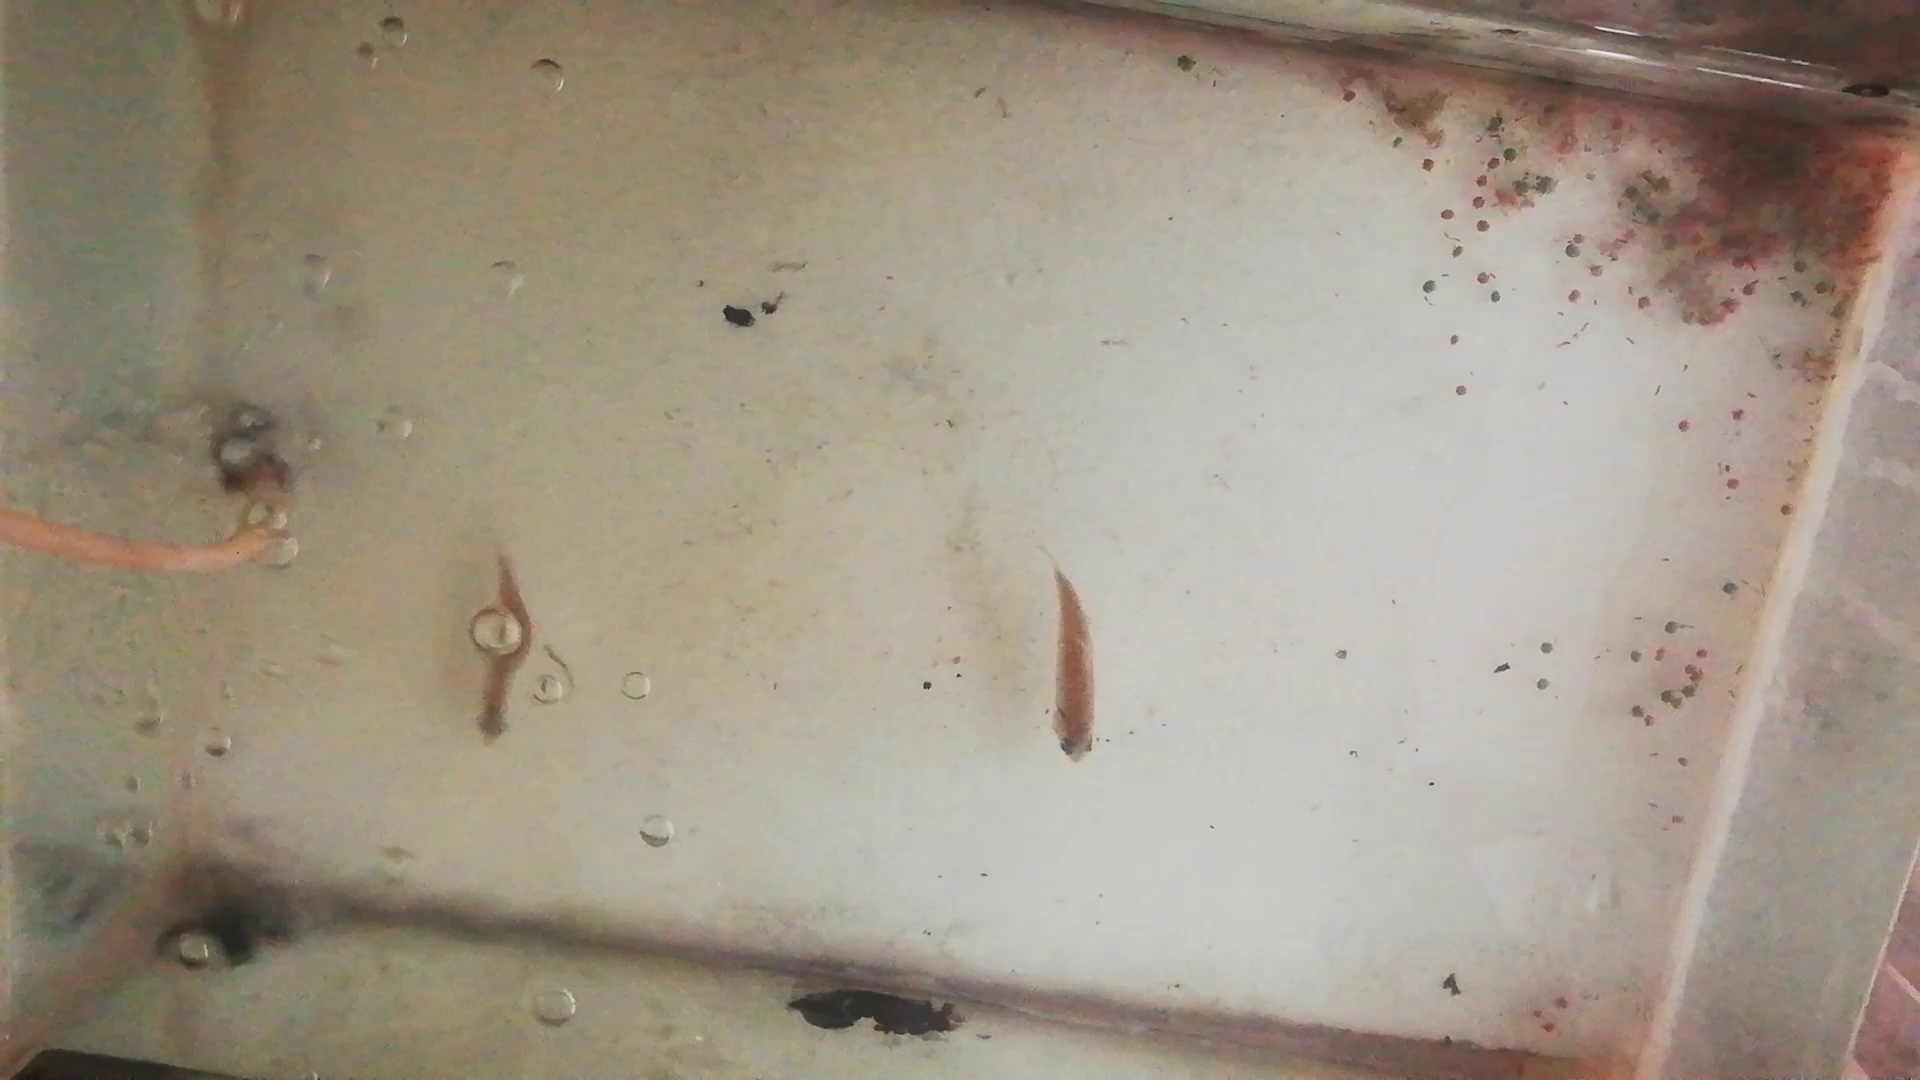fish: (1040, 563, 1098, 764), (473, 556, 530, 752)
